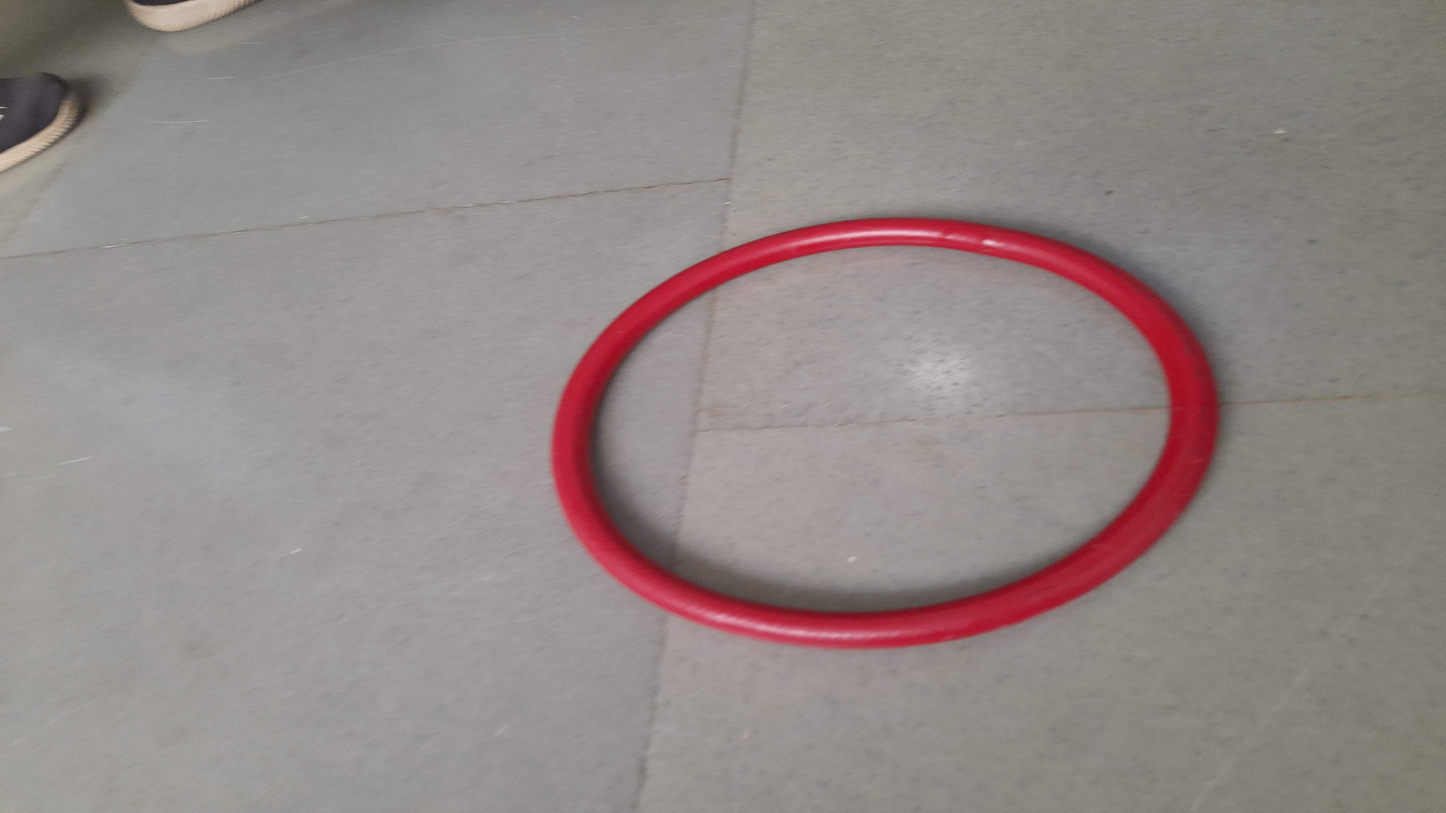Red ring: (551, 221, 1219, 644)
